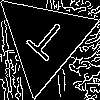T: (19, 15, 70, 69)
